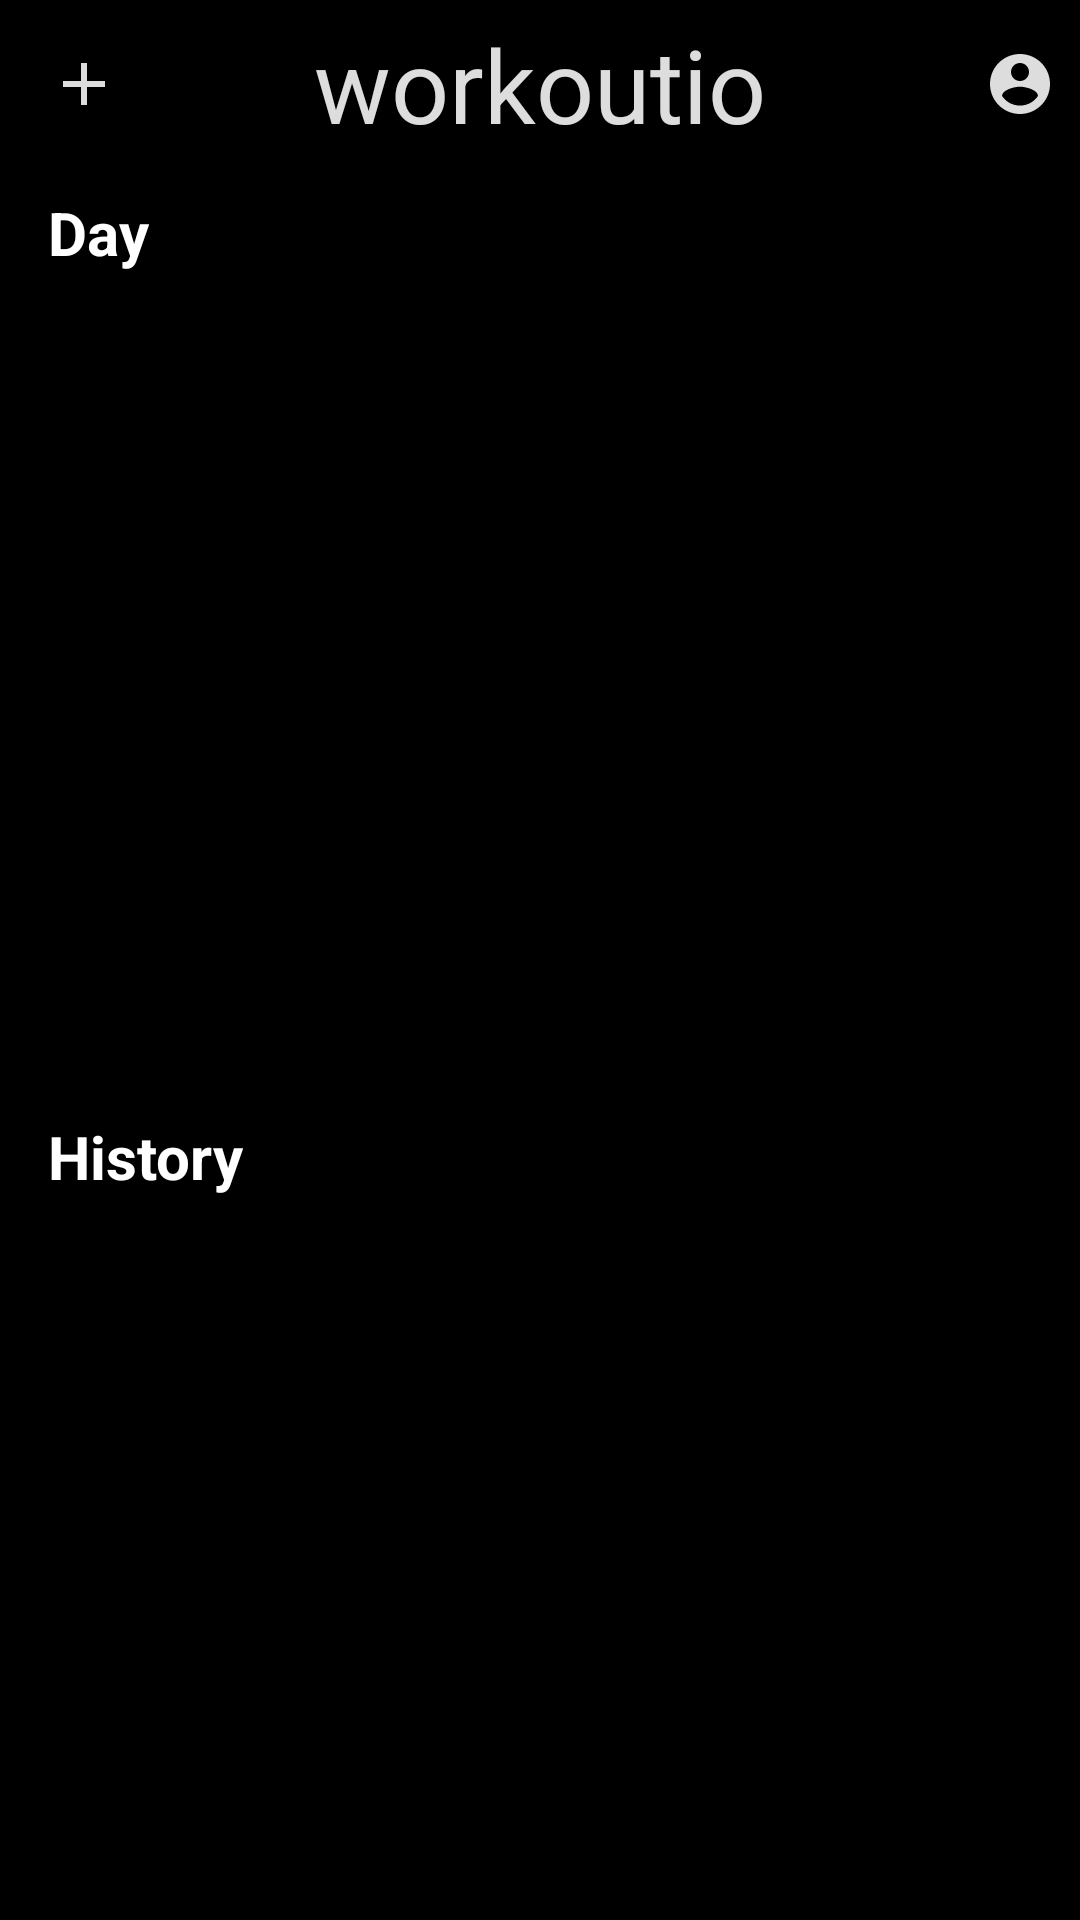

Icons on this 1080px×1920px Android screen, each with its box as (x1, y1, x2, y2):
account circle: (990, 54, 1050, 114)
add: (63, 63, 105, 105)
